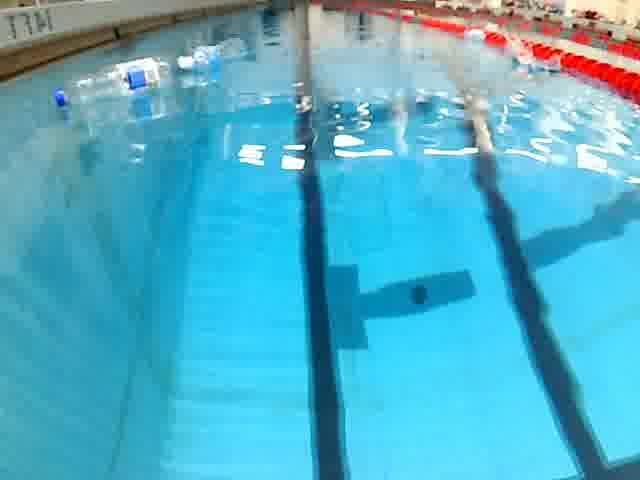Bottle: (50, 53, 176, 109), (173, 29, 256, 73)
